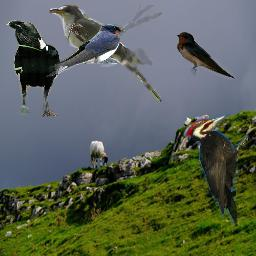Crow: (6, 20, 60, 117)
Cuckoo: (49, 5, 162, 102)
Swallow: (46, 24, 125, 79), (175, 31, 236, 80)
Woodpecker: (182, 114, 248, 226)
